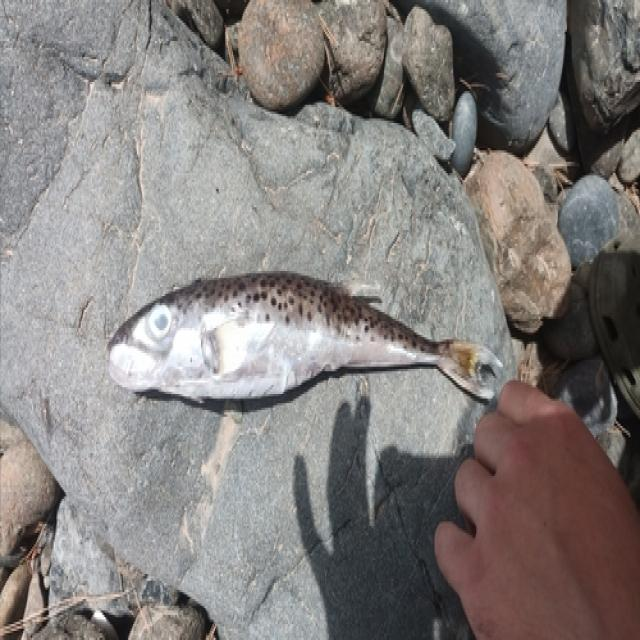Balik: (108, 274, 501, 398)
